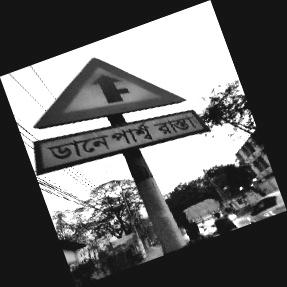Side-road-right: (32, 57, 203, 177)
